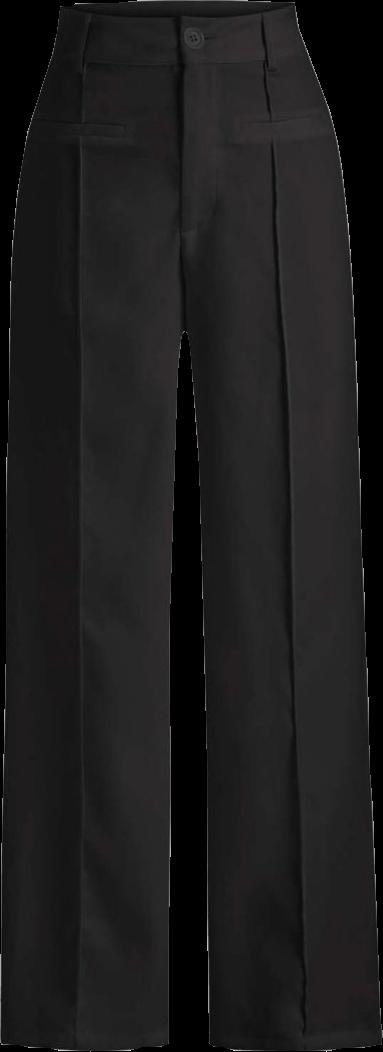Hemline: (0, 1029, 173, 1050), (205, 1034, 382, 1051)
Pantleg: (181, 0, 381, 1051), (1, 0, 181, 1050)
Waistline: (47, 44, 303, 75), (54, 0, 296, 19)
